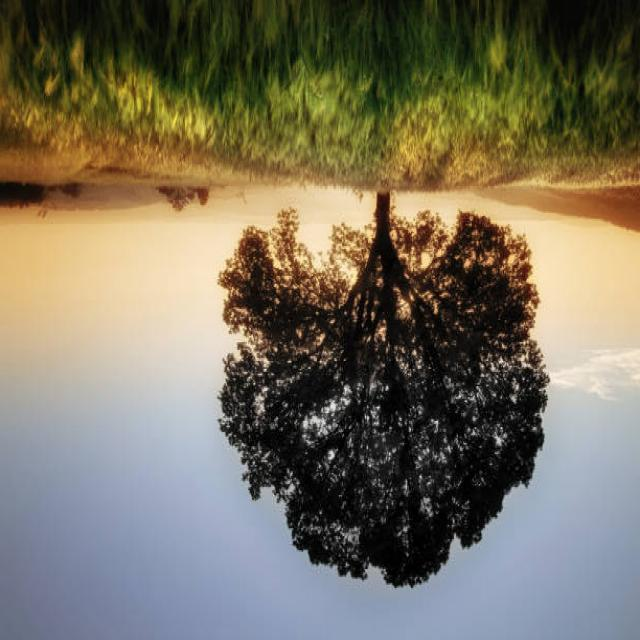tree: (225, 204, 547, 596)
